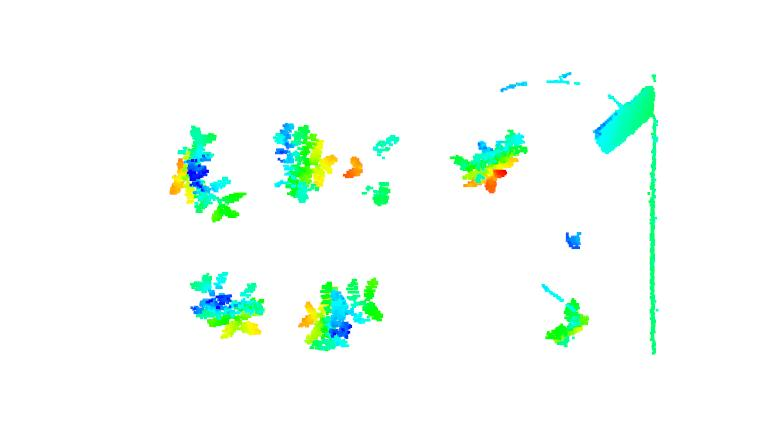chickpea: (166, 125, 250, 225), (296, 276, 389, 352), (269, 119, 340, 206), (186, 269, 269, 342), (449, 127, 530, 193), (342, 132, 404, 206), (542, 296, 594, 349)
